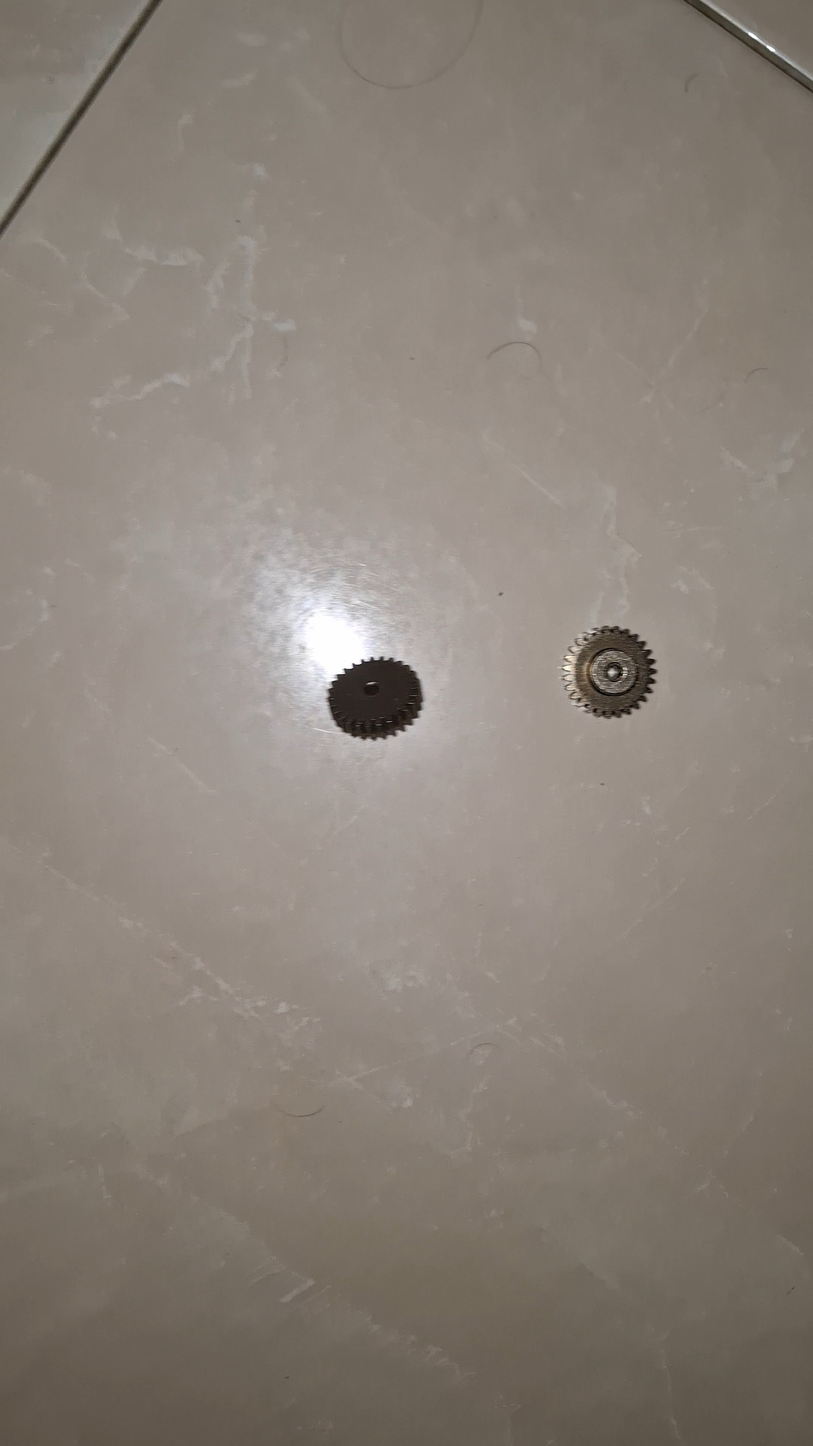spur gear: (562, 626, 655, 717), (328, 658, 422, 738)
